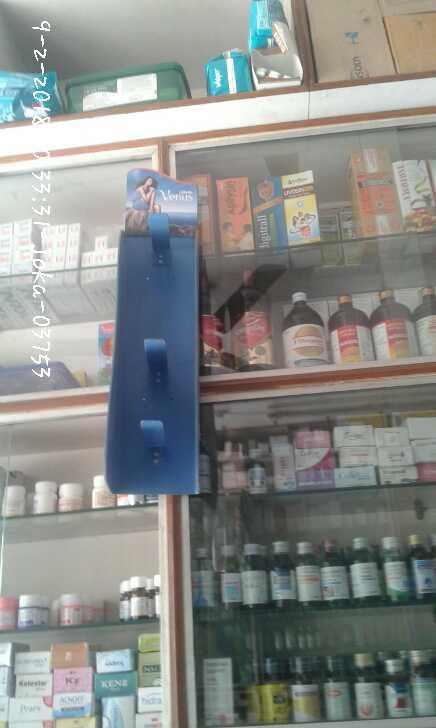reject: (216, 121, 293, 231)
